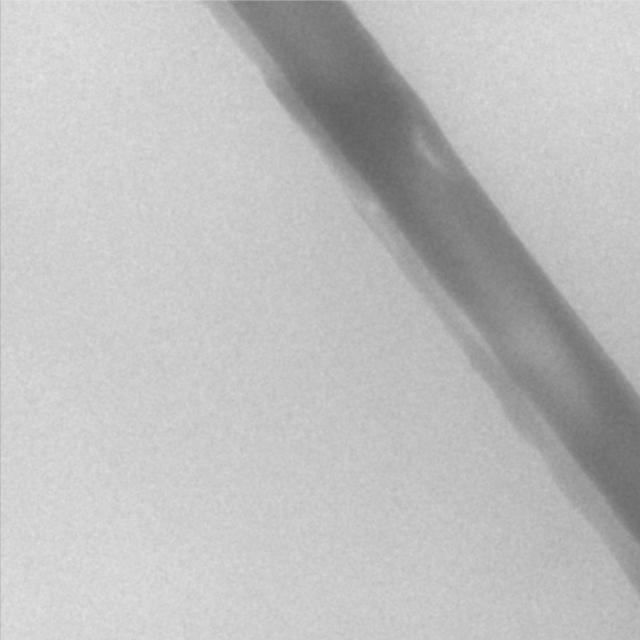unfused: (413, 130, 443, 169)
